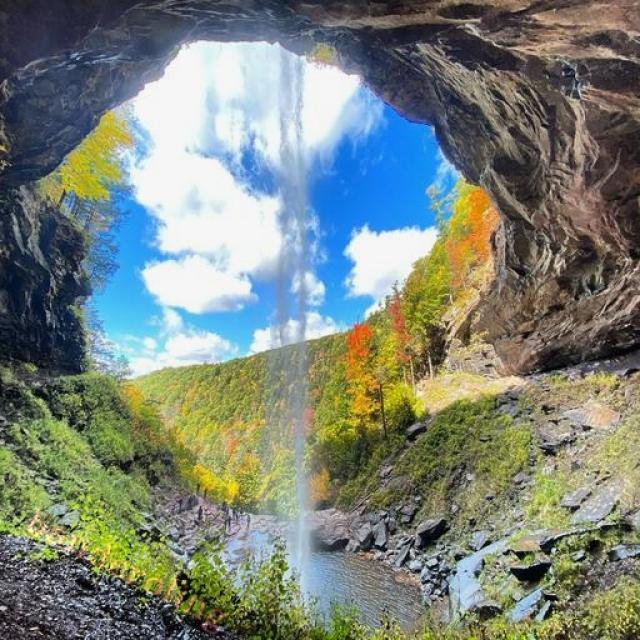watermark: (14, 502, 244, 635)
